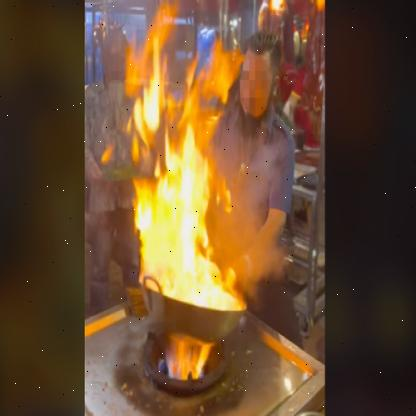fire: (115, 6, 252, 308)
